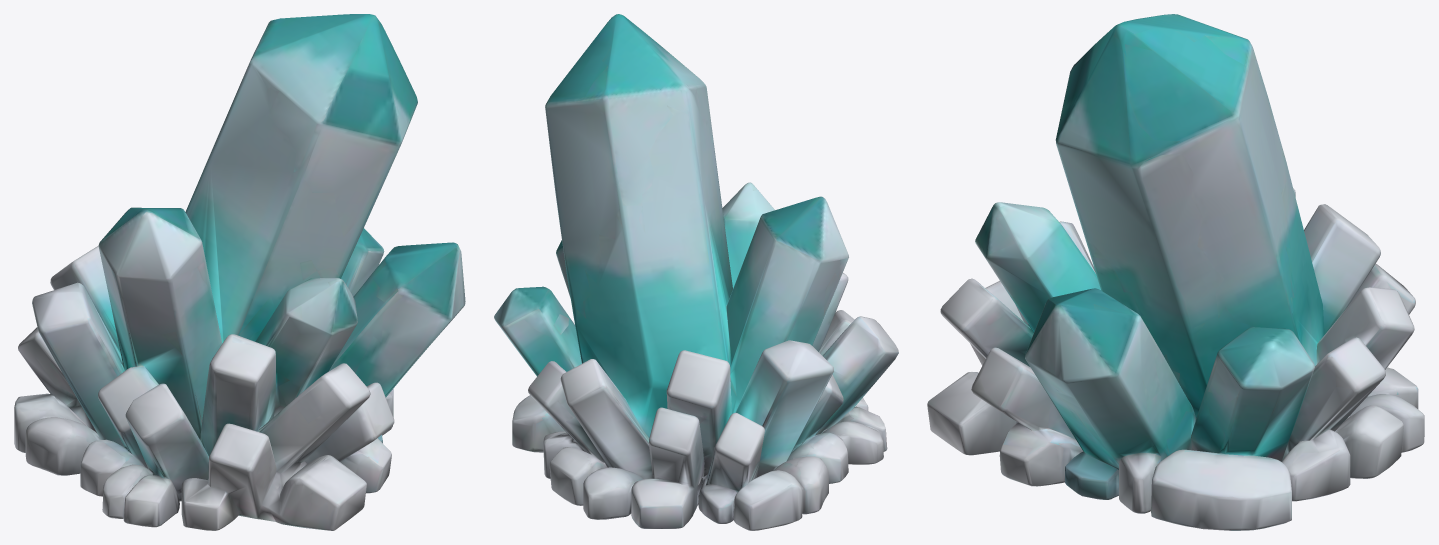
The model's file is salt_a.glb.
The picture shows the model from 3 angles, left to right: view 1: azimuth 30°, elevation 25°; view 2: azimuth 150°, elevation 25°; view 3: azimuth 270°, elevation 25°; orthographic projection. The views are drawn at different scales.
Parts seen in each view (by area): view 1: node_0; view 2: node_0; view 3: node_0.
Boxes of the visible parts, box(x1,y1,x2,y2) form: node_0: box(14, 14, 465, 530); node_0: box(494, 14, 898, 530); node_0: box(927, 14, 1424, 530).
Bounding box in the file's own units: 0.751 × 0.8629 × 0.8141.
Materials: 1 (1 with a texture image).
